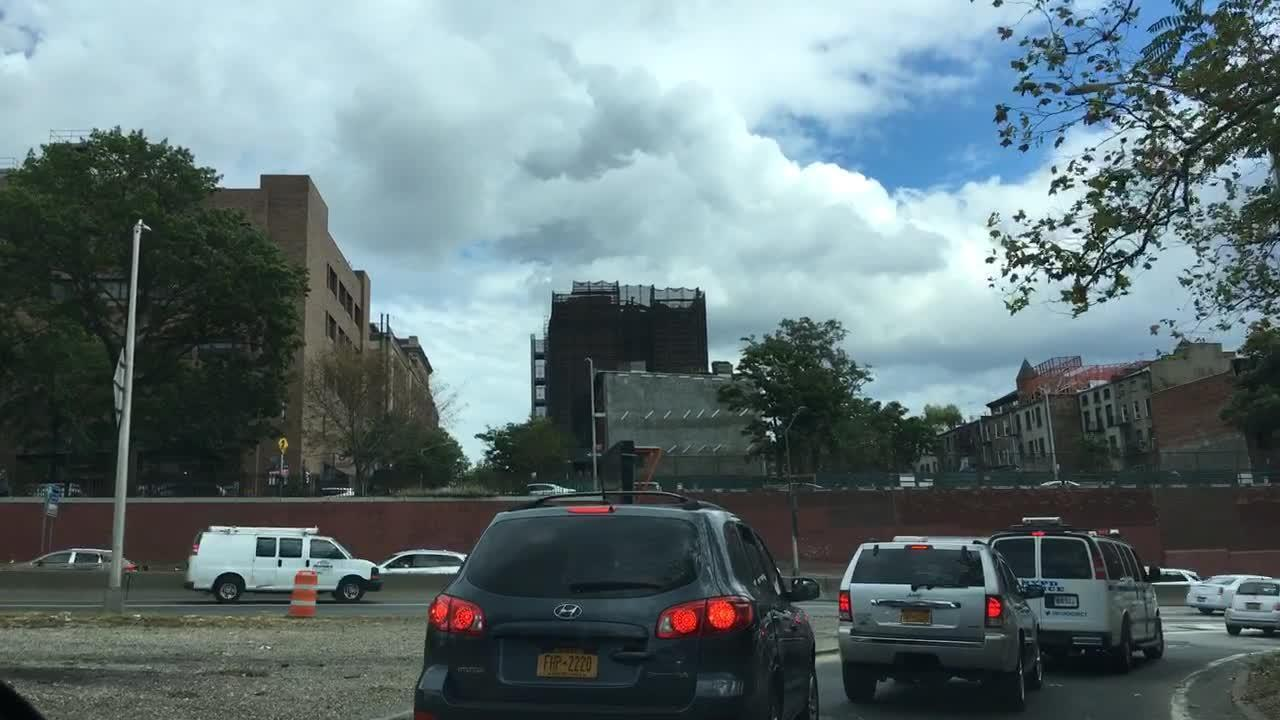Hyundai: (551, 602, 585, 623)
jeep: (904, 591, 927, 601)
